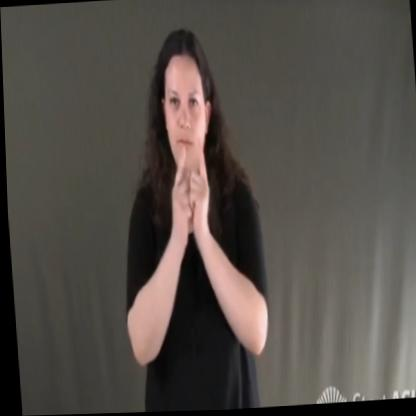NiceToMeetYou: (148, 147, 220, 258)
